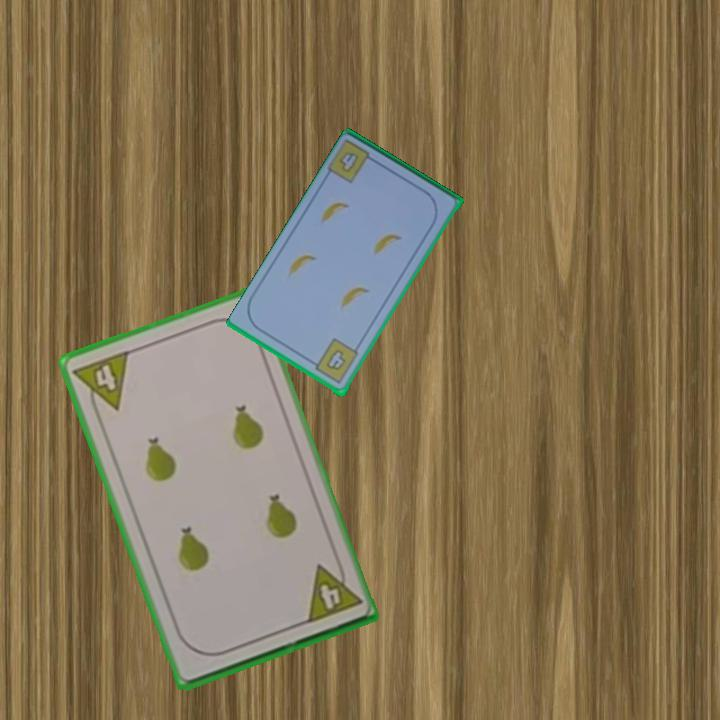4b: (325, 137, 381, 187), (308, 335, 361, 387)
4p: (69, 346, 132, 420), (302, 555, 364, 627)
